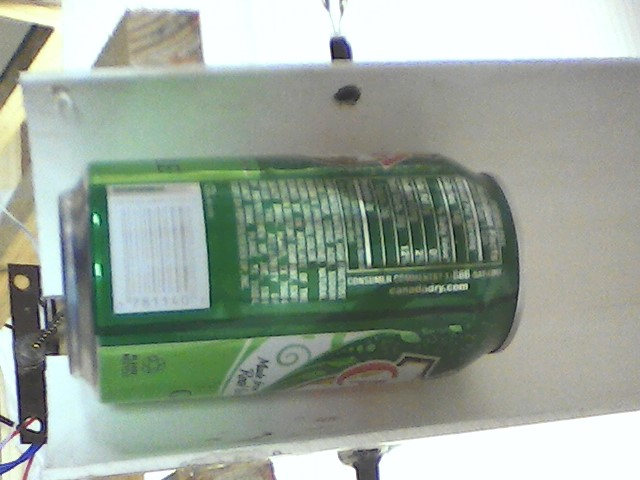lata: (56, 149, 532, 413)
